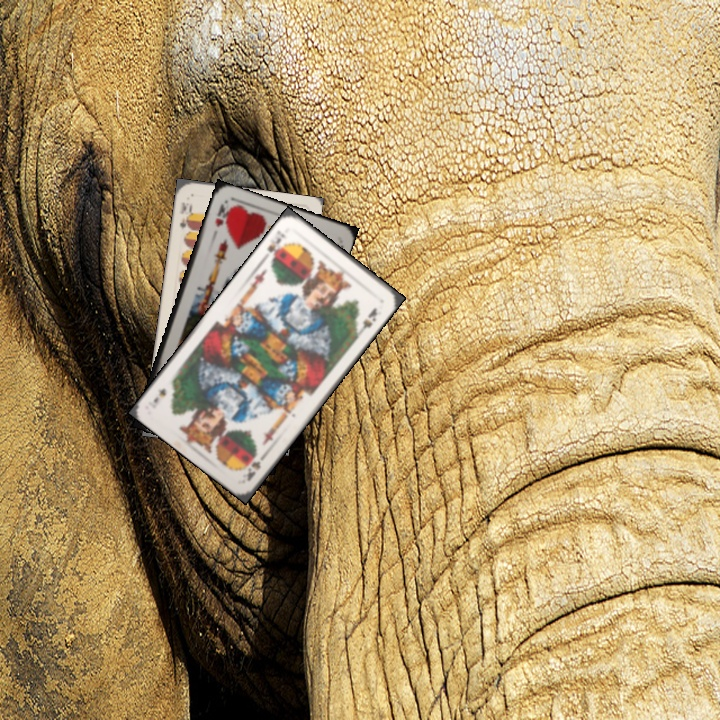E10: (175, 198, 195, 235)
HK: (211, 198, 233, 229)
SK: (263, 226, 288, 264), (243, 451, 267, 484)
